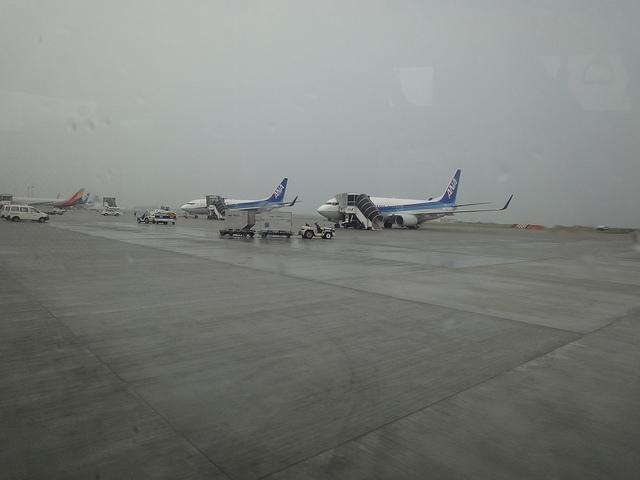car: (0, 204, 10, 220), (101, 209, 119, 217)
truck: (219, 208, 257, 238), (258, 210, 295, 238), (10, 206, 48, 222)
